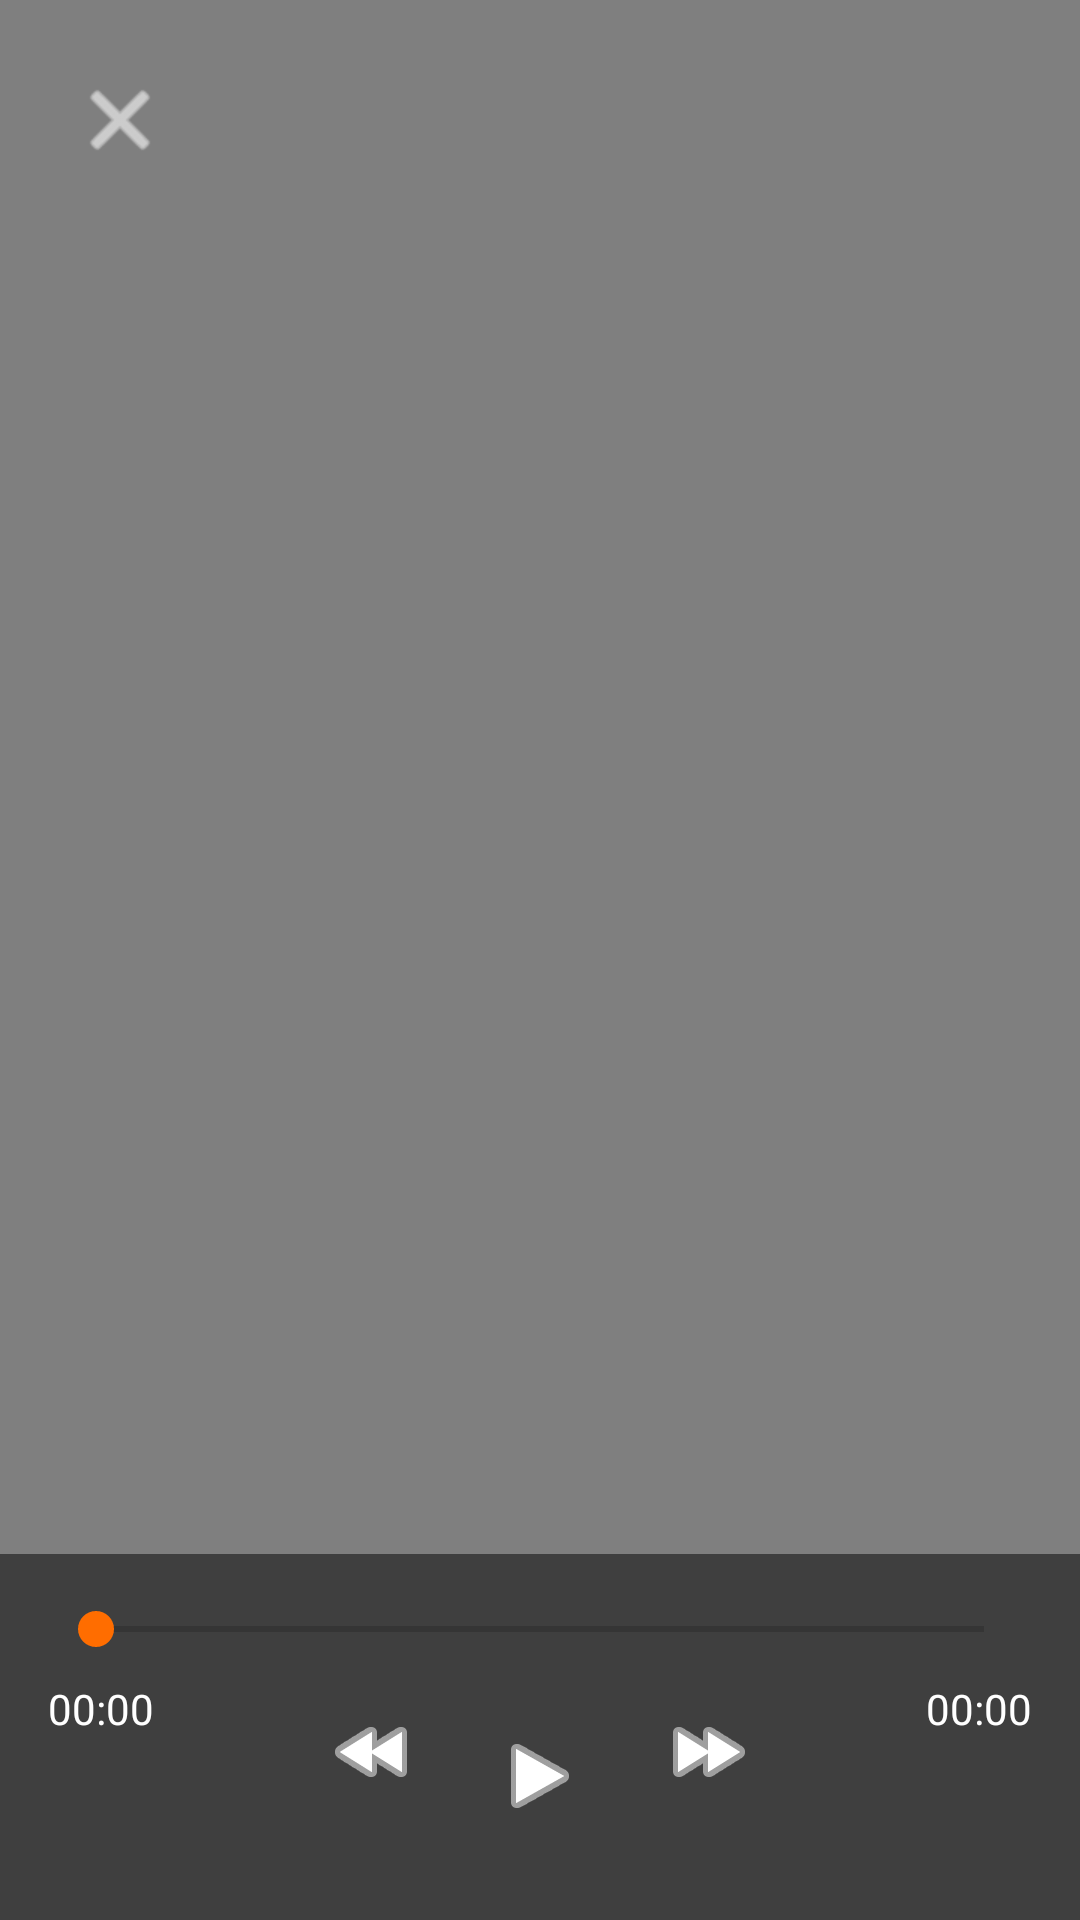

Locate icon controls on the screen. Image size 1080px×1920px, boxes as region(x1, y1, x2, y2).
close clear cancel: region(90, 90, 150, 150)
play: region(511, 1744, 569, 1808)
rew: region(335, 1727, 407, 1777)
